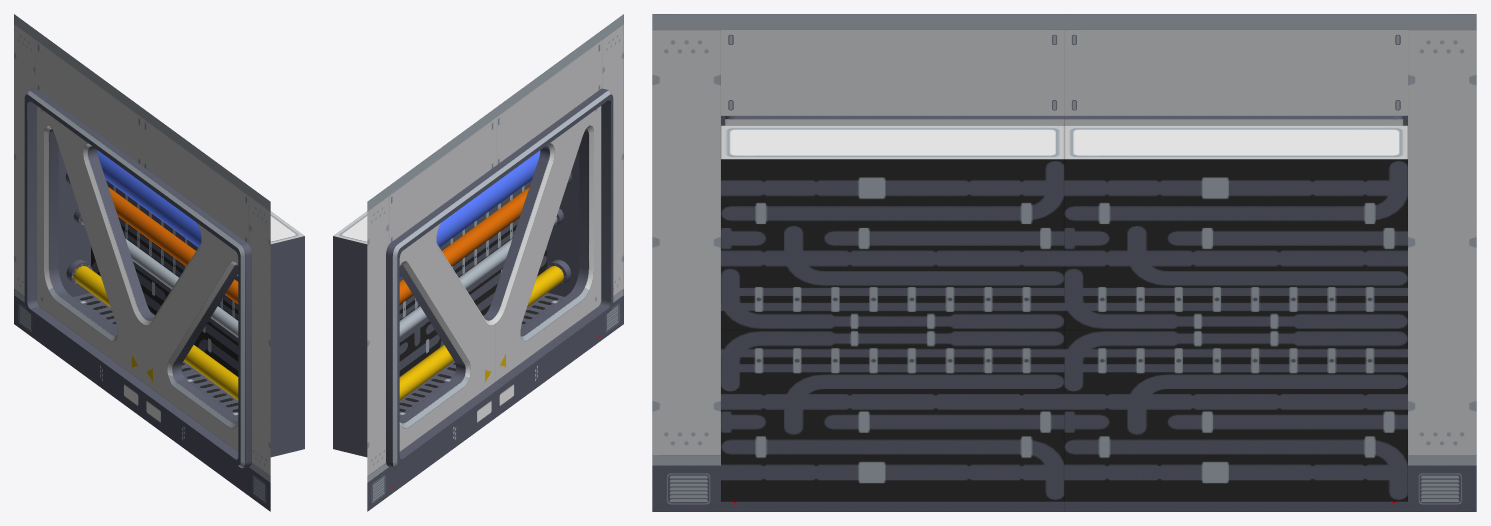
Rendered from Interior_Wall_Pipes_01.FBX.
The picture shows the model from 3 angles, left to right: view 1: azimuth 30°, elevation 25°; view 2: azimuth 150°, elevation 25°; view 3: azimuth 270°, elevation 25°; orthographic projection. The views are drawn at different scales.
Visible parts, largest first — view 1: Interior_Wall_Pipes_01, Pipes; view 2: Interior_Wall_Pipes_01, Pipes; view 3: Interior_Wall_Pipes_01.
Boxes of the visible parts, x1,y1,x2,y2 form: Interior_Wall_Pipes_01: [14, 14, 304, 511]; Pipes: [58, 147, 238, 400]; Interior_Wall_Pipes_01: [333, 14, 623, 511]; Pipes: [399, 147, 579, 400]; Interior_Wall_Pipes_01: [652, 14, 1476, 511].
Size of the model in its own units: 0.8815 by 4 by 6.
4 materials, 4 textured.
